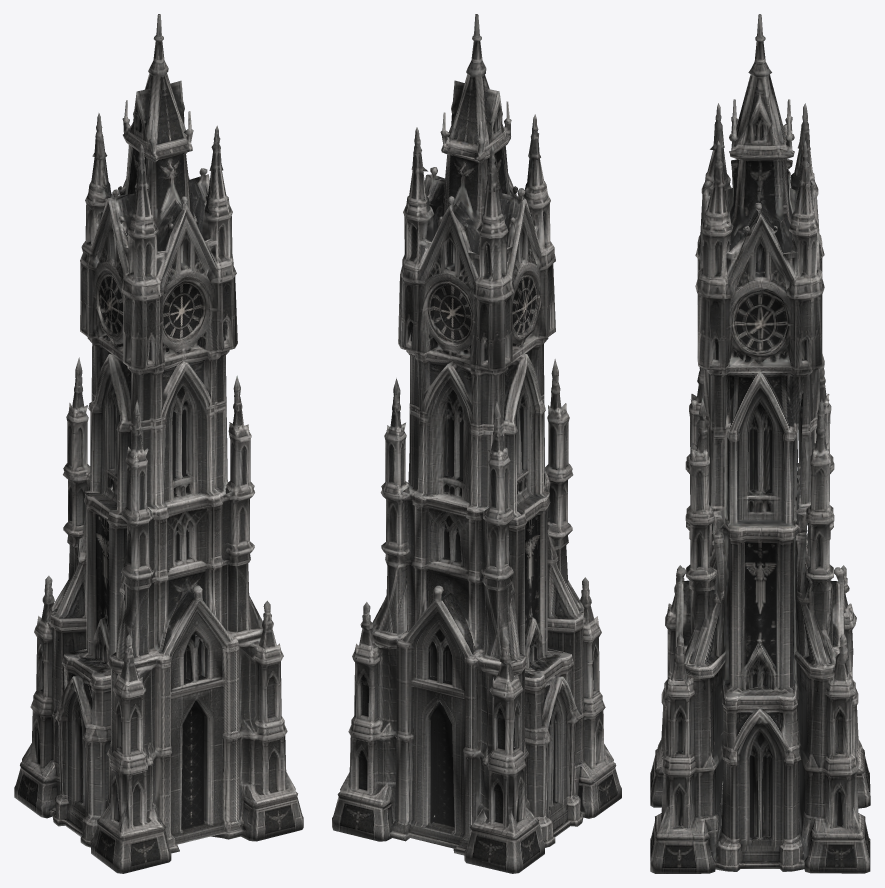
Rendered from Meshy_AI_Guardian_Tower_Low_Po_1029173149_texture.glb.
3 renders of one model, left to right at view 1: azimuth 30°, elevation 25°; view 2: azimuth 150°, elevation 25°; view 3: azimuth 270°, elevation 25°, orthographic.
Size of the model in its own units: 0.2329 by 0.9512 by 0.2339.
1 material, 1 textured.
